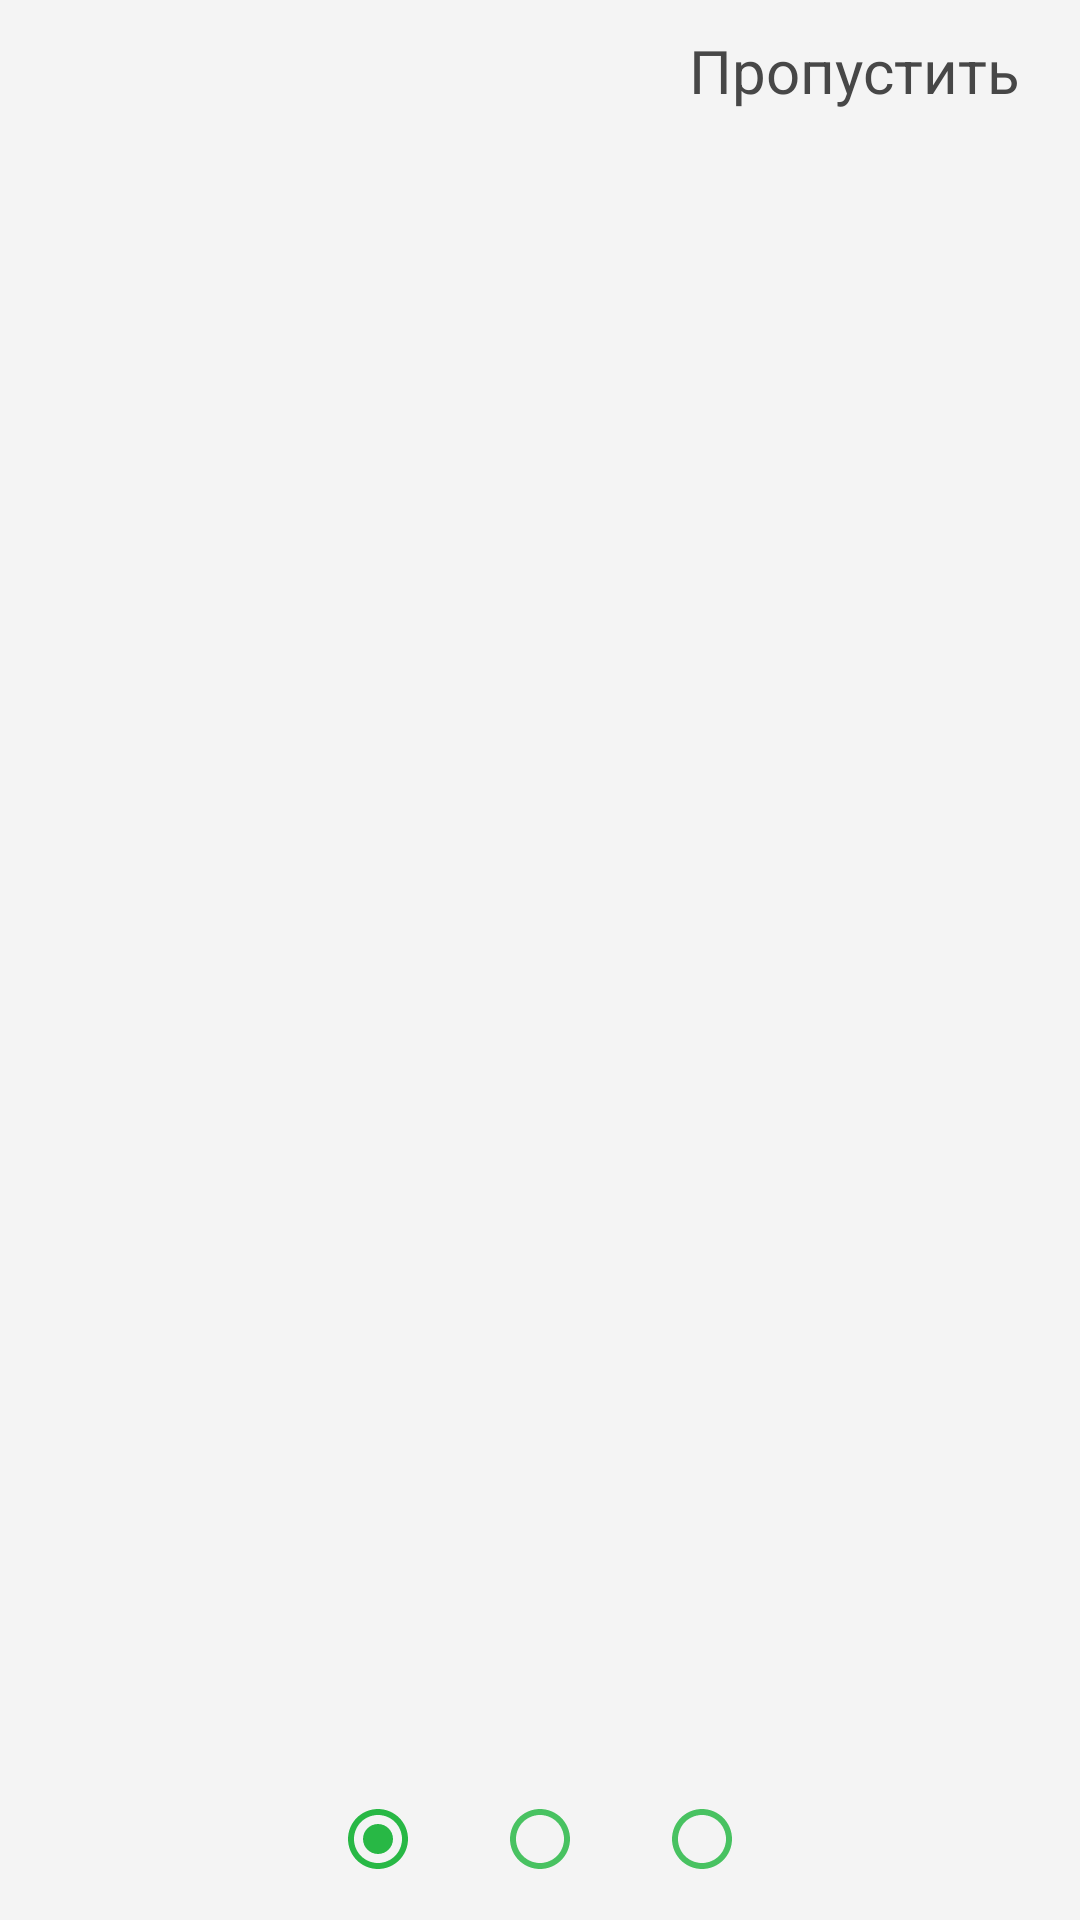

Named icons in this screenshot (1080x1920) and their bounding boxes, (x1, y1, x2, y2):
radio checked: (348, 1809, 408, 1869)
radio unchecked: (510, 1809, 570, 1869), (672, 1809, 732, 1869)
